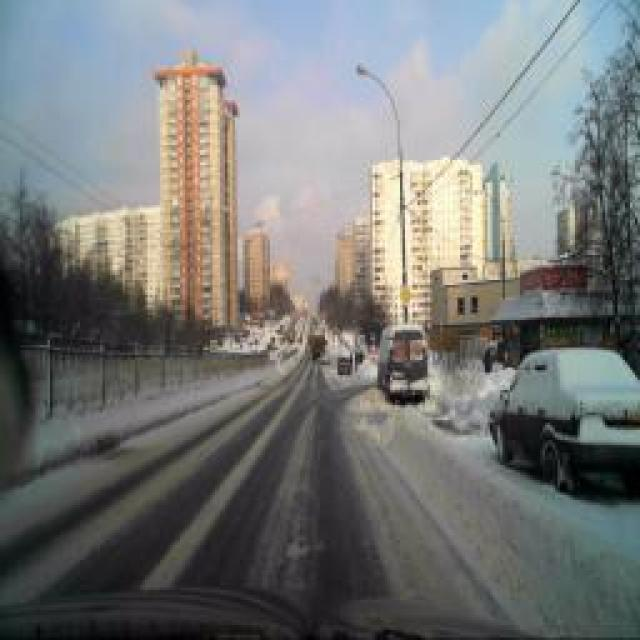sign: (398, 284, 414, 308)
